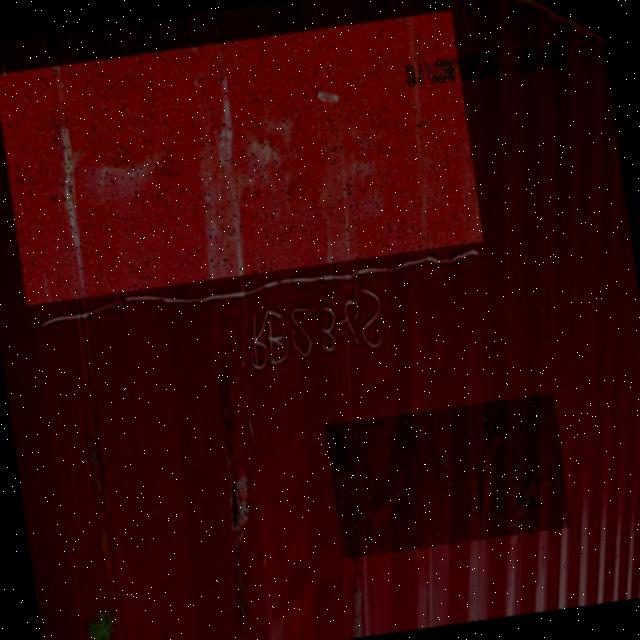Dent: (0, 10, 483, 305)
Minor-Dent: (325, 393, 573, 559)
